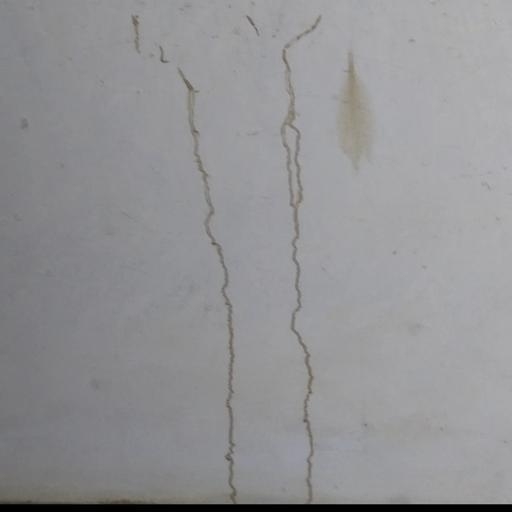stain: (131, 18, 353, 512), (327, 34, 413, 199)
